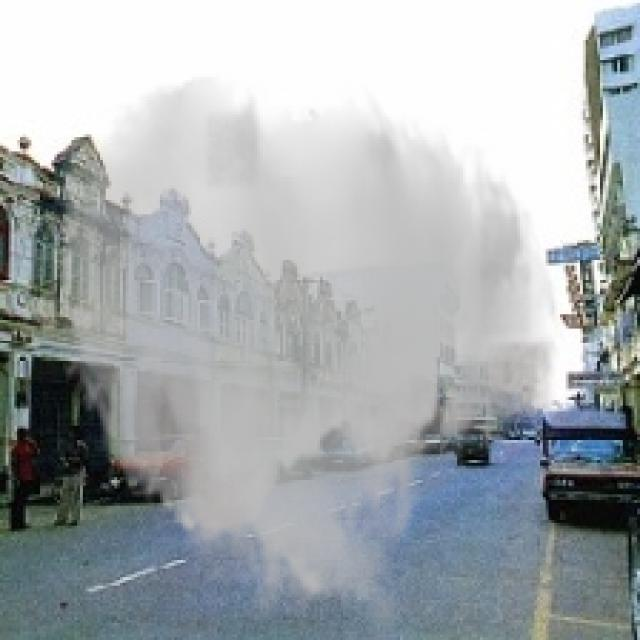smoke: (17, 72, 563, 637)
